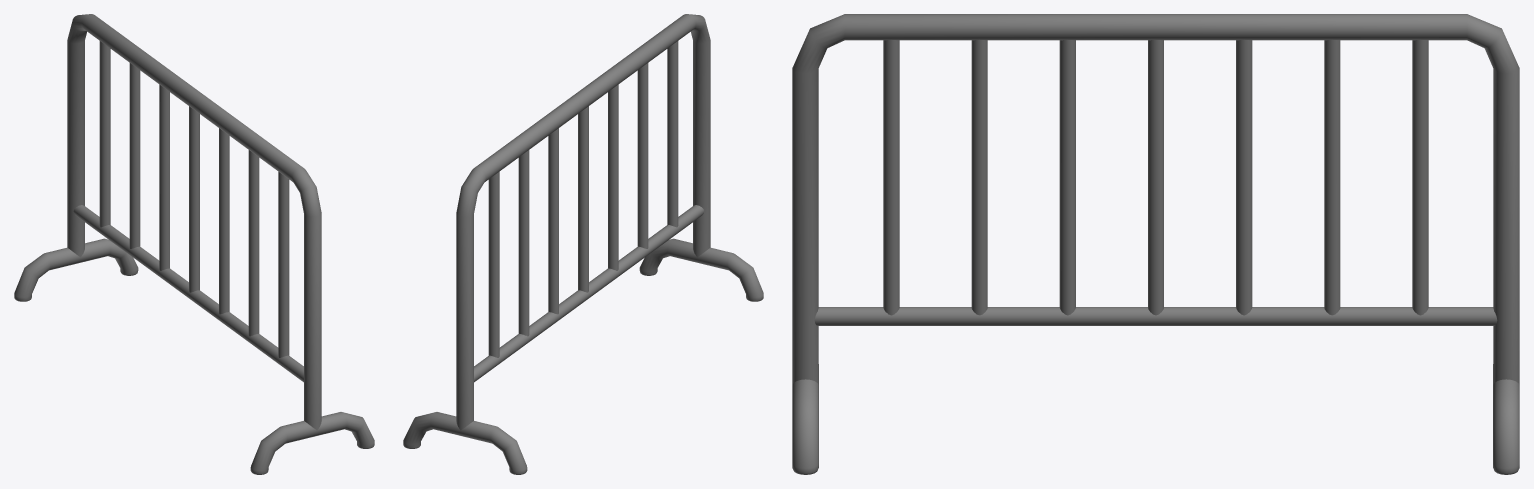
The model's file is bardaBateo.obj.
The picture shows the model from 3 angles, left to right: view 1: azimuth 30°, elevation 25°; view 2: azimuth 150°, elevation 25°; view 3: azimuth 270°, elevation 25°; orthographic projection. The views are drawn at different scales.
Visible parts, largest first — view 1: Fence_Cylinder.001; view 2: Fence_Cylinder.001; view 3: Fence_Cylinder.001.
Boxes of the visible parts, left/top/right/bottom form: Fence_Cylinder.001: left=14, top=14, right=374, bottom=474; Fence_Cylinder.001: left=403, top=14, right=763, bottom=474; Fence_Cylinder.001: left=792, top=14, right=1519, bottom=474.
Bounding box in the file's own units: 4.72 × 10.43 × 16.5.
1 material, 1 textured.
